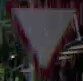Give way: (5, 3, 82, 76)
